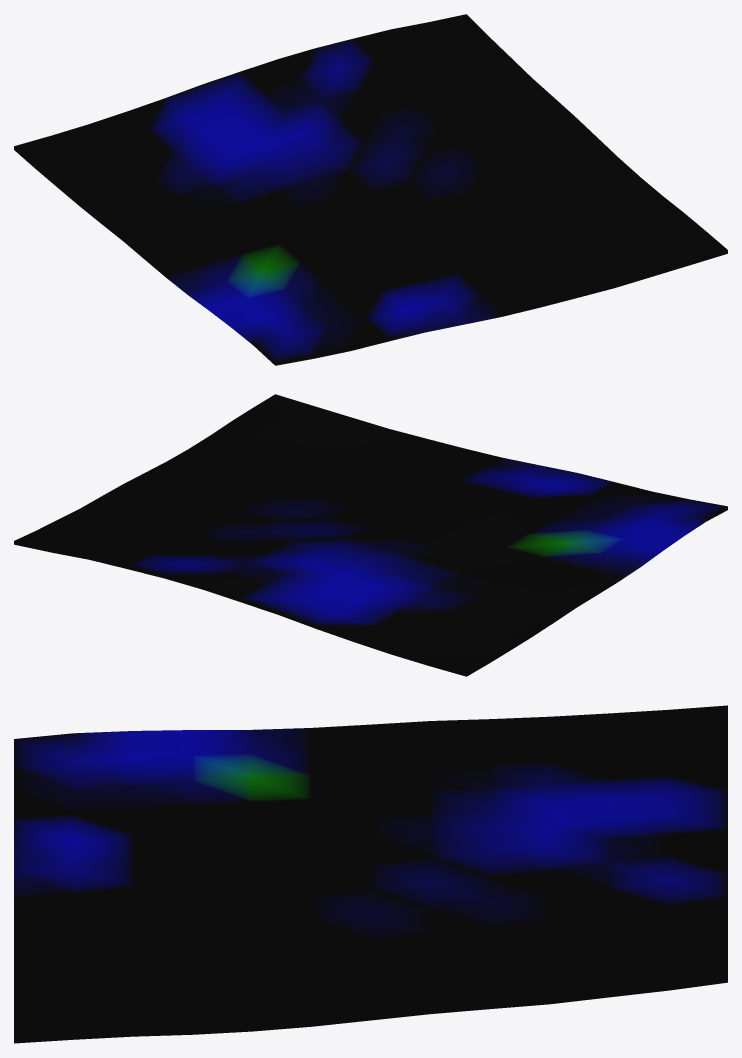
Rendered from coast_13_4.glb.
3 views of the same model, one above another, from view 1: azimuth 30°, elevation 25°; view 2: azimuth 150°, elevation 25°; view 3: azimuth 270°, elevation 25° (orthographic). The views are drawn at different scales.
Parts seen in each view (by area): view 1: terrain; view 2: terrain; view 3: terrain.
Boxes of the visible parts, bbox=[...] form: terrain: bbox=[14, 14, 727, 365]; terrain: bbox=[14, 394, 727, 676]; terrain: bbox=[14, 705, 727, 1043].
Size of the model in its own units: 192 by 24.16 by 192.
